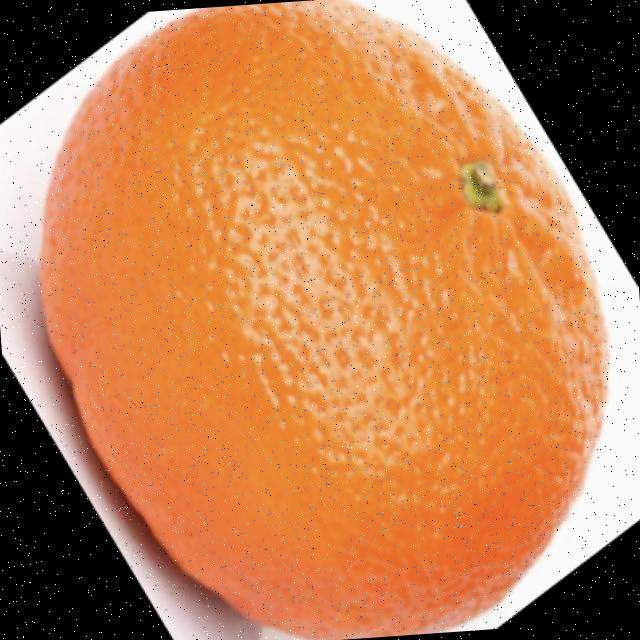orange: (19, 0, 628, 640)
